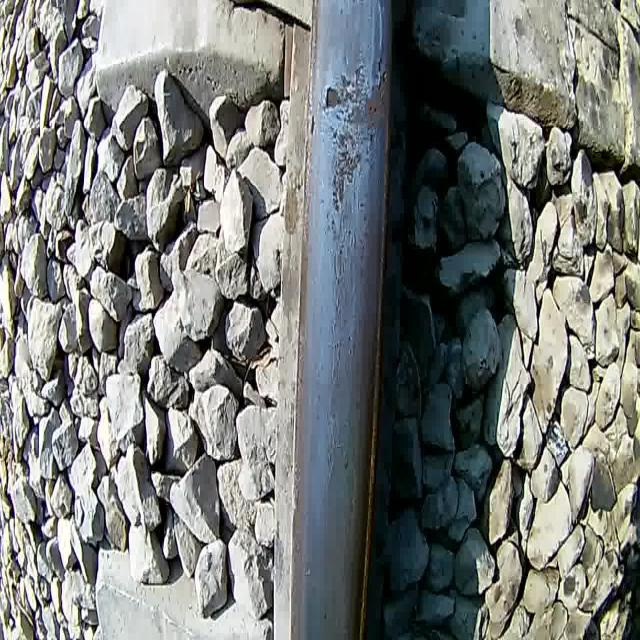Cracks: (372, 0, 388, 79)
Grooves: (321, 208, 353, 507)
Squats: (318, 38, 398, 222)
